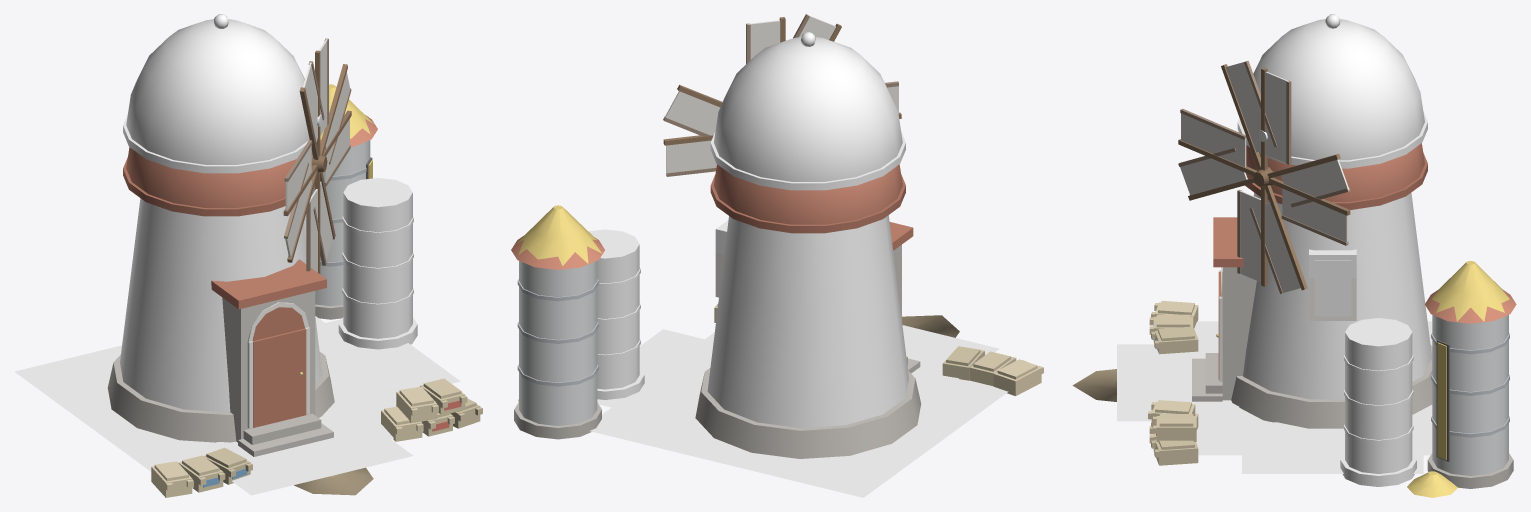
File: feed_mill_2.glb
3 views of the same model, side by side, from view 1: azimuth 30°, elevation 25°; view 2: azimuth 150°, elevation 25°; view 3: azimuth 270°, elevation 25° (orthographic). The views are drawn at different scales.
Parts seen in each view (by area): view 1: when_plan_true, body6, feed_mill_2, body5, spin_55_0, body4; view 2: when_plan_true, body6, feed_mill_2, spin_55_0, body4, body5, body; view 3: when_plan_true, body6, feed_mill_2, spin_55_0, body5, body4, body, body3.
Boxes of the visible parts, left/top/right/bottom form: when_plan_true: left=120, top=14, right=417, bottom=412; body6: left=107, top=140, right=482, bottom=497; feed_mill_2: left=14, top=316, right=460, bottom=495; body5: left=284, top=61, right=351, bottom=265; spin_55_0: left=283, top=38, right=351, bottom=273; body4: left=320, top=84, right=374, bottom=178; when_plan_true: left=589, top=32, right=908, bottom=427; body6: left=514, top=164, right=1043, bottom=458; feed_mill_2: left=590, top=325, right=1008, bottom=497; spin_55_0: left=663, top=17, right=901, bottom=176; body4: left=514, top=205, right=601, bottom=401; body5: left=663, top=14, right=841, bottom=136; body: left=511, top=236, right=604, bottom=269; when_plan_true: left=1237, top=14, right=1431, bottom=486; body6: left=1072, top=143, right=1513, bottom=488; feed_mill_2: left=1117, top=321, right=1432, bottom=473; spin_55_0: left=1178, top=67, right=1350, bottom=286; body5: left=1178, top=60, right=1350, bottom=293; body4: left=1407, top=261, right=1509, bottom=497; body: left=1425, top=289, right=1516, bottom=461; body3: left=1437, top=382, right=1446, bottom=459.
Bounding box in the file's own units: 2.7 × 2.59 × 2.8.
